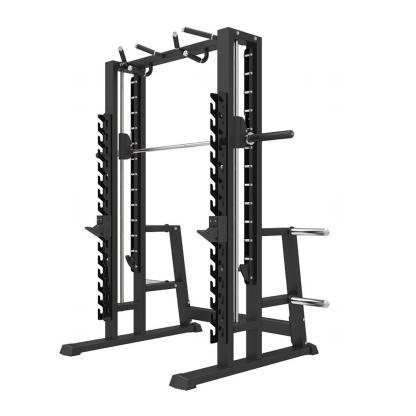smith machine: (59, 24, 334, 390)
